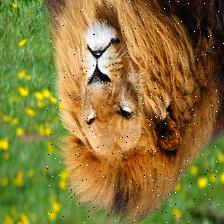Lion: (47, 1, 224, 223)
